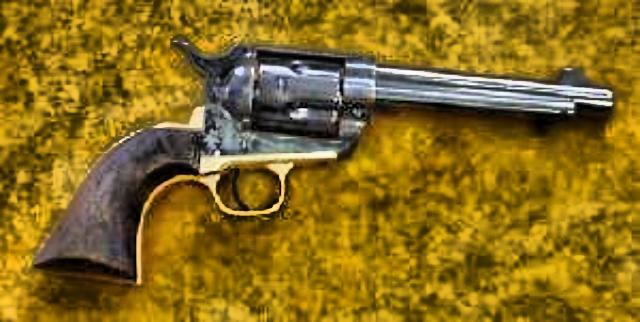pistol: (26, 33, 618, 280)
